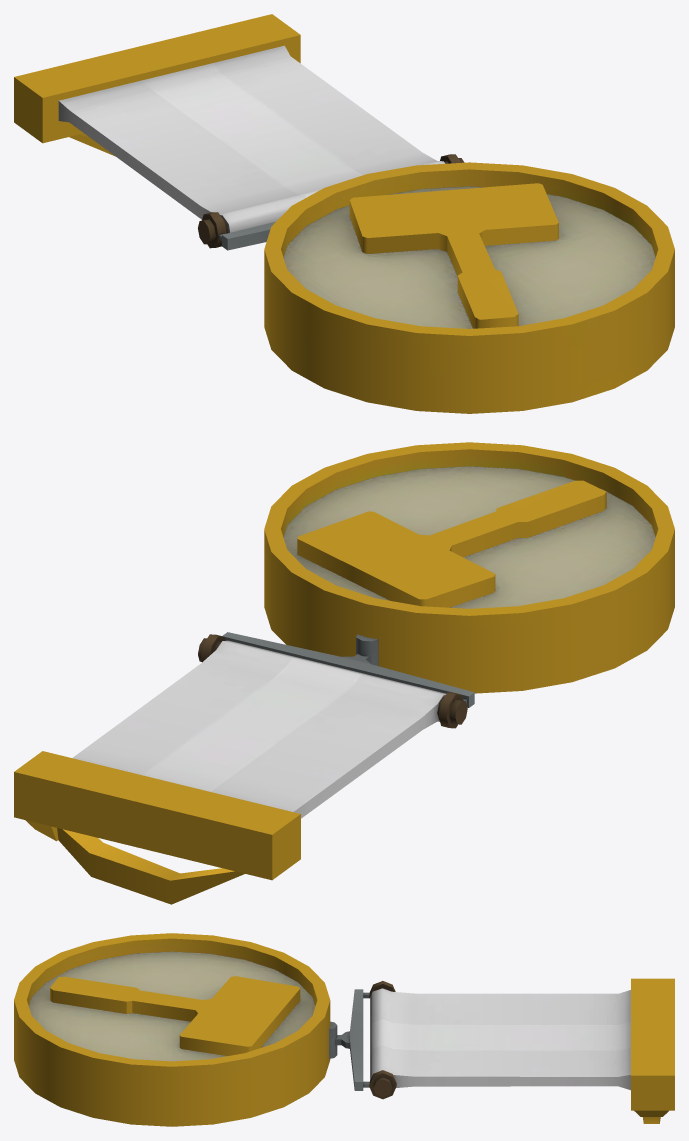
The picture shows the model from 3 angles, top to bottom: view 1: azimuth 30°, elevation 25°; view 2: azimuth 150°, elevation 25°; view 3: azimuth 270°, elevation 25°; orthographic projection. The views are drawn at different scales.
Visible parts, largest first — view 1: body0_model0_lod0_mesh1, body0_model0_lod0_mesh0; view 2: body0_model0_lod0_mesh1, body0_model0_lod0_mesh0; view 3: body0_model0_lod0_mesh1, body0_model0_lod0_mesh0.
Boxes of the visible parts, x1,y1,x2,y2 form: body0_model0_lod0_mesh1: [14, 14, 674, 413]; body0_model0_lod0_mesh0: [58, 45, 655, 328]; body0_model0_lod0_mesh1: [14, 442, 674, 904]; body0_model0_lod0_mesh0: [72, 466, 655, 818]; body0_model0_lod0_mesh1: [14, 933, 674, 1126]; body0_model0_lod0_mesh0: [29, 951, 630, 1099].
Size of the model in its own units: 3.52 by 1.33 by 7.36.
2 materials, 2 textured.
